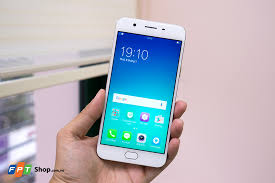oppo: (98, 14, 185, 167)
